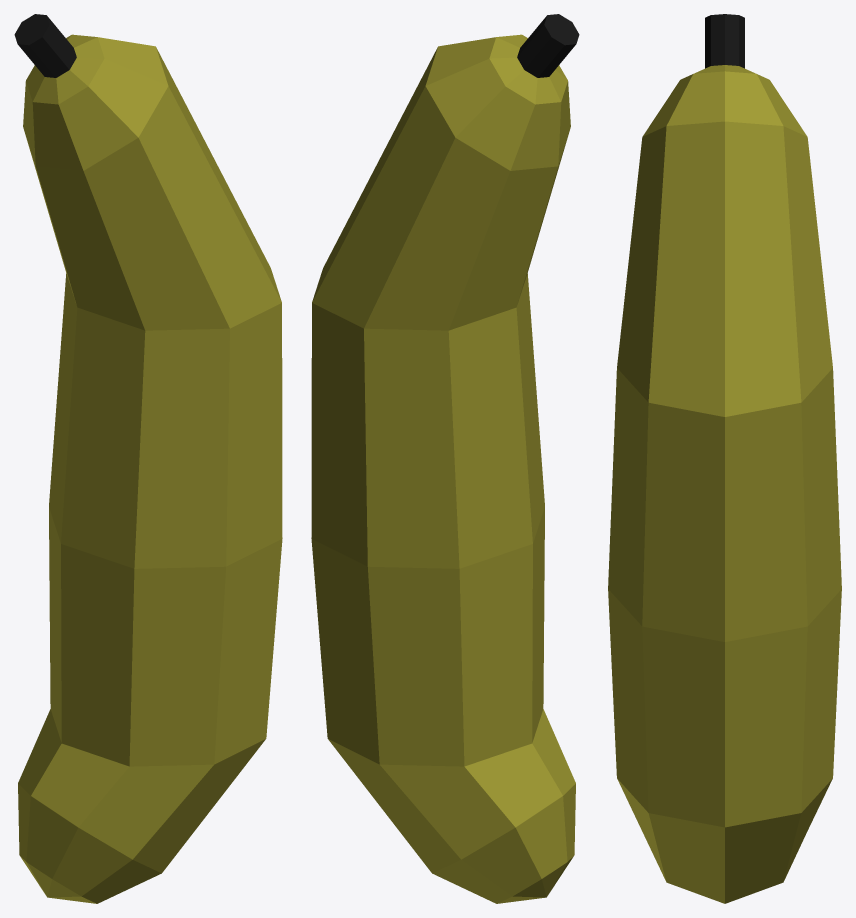
File: Item_Banana.fbx
3 views of the same model, side by side, from view 1: azimuth 30°, elevation 25°; view 2: azimuth 150°, elevation 25°; view 3: azimuth 270°, elevation 25° (orthographic). The views are drawn at different scales.
Parts seen in each view (by area): view 1: Sphere; view 2: Sphere; view 3: Sphere.
Part boxes in pixels (x1,y1,x2,y2): Sphere: (14,14,282,903); Sphere: (311,14,579,903); Sphere: (608,14,841,903).
Size of the model in its own units: 242 by 814 by 200.
